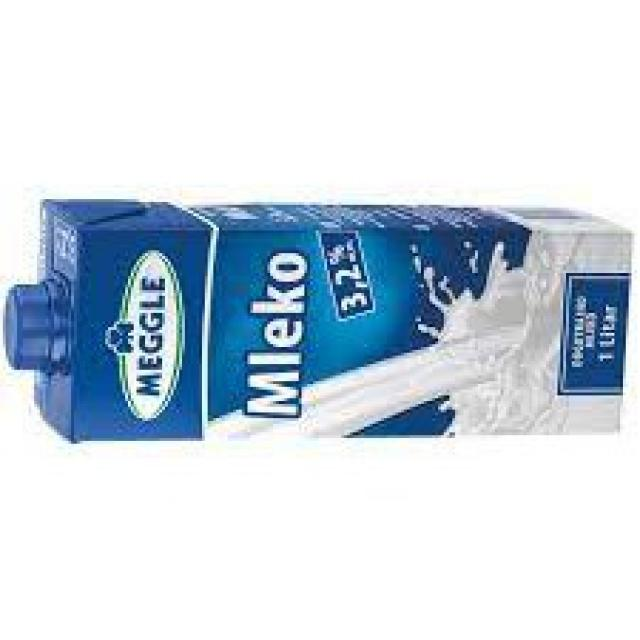non_white_jug: (0, 193, 636, 447)
